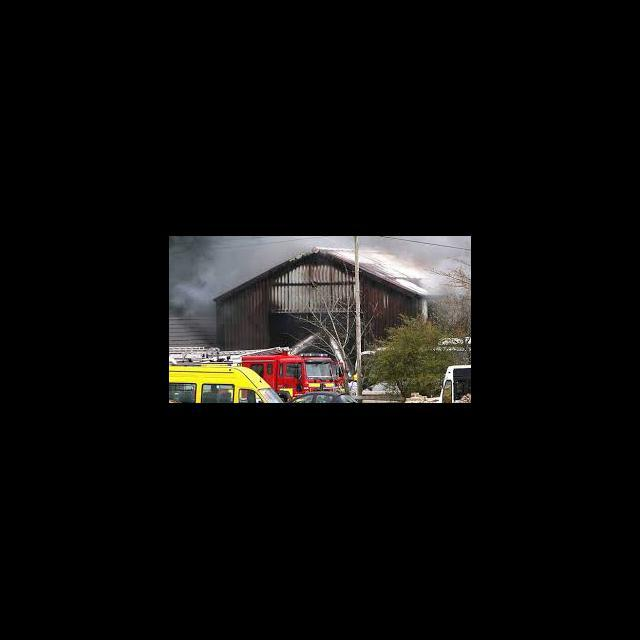Smoke: (202, 240, 262, 272), (406, 237, 451, 270), (170, 278, 208, 313), (264, 238, 291, 256)
